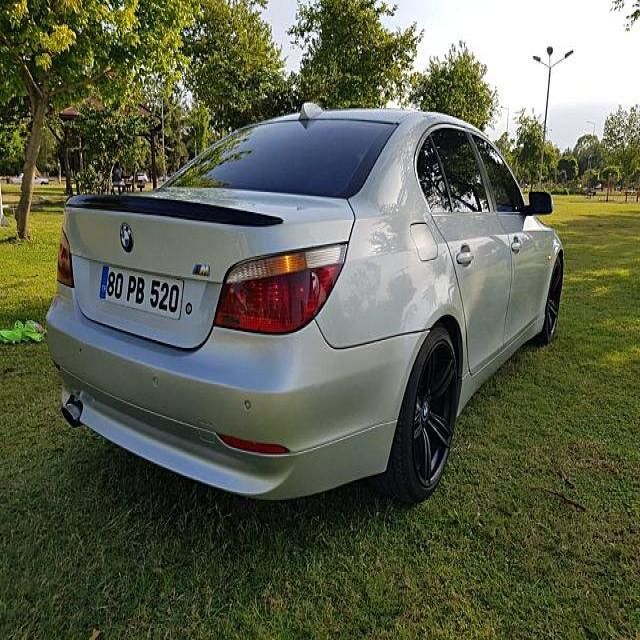plate: (99, 268, 183, 320)
